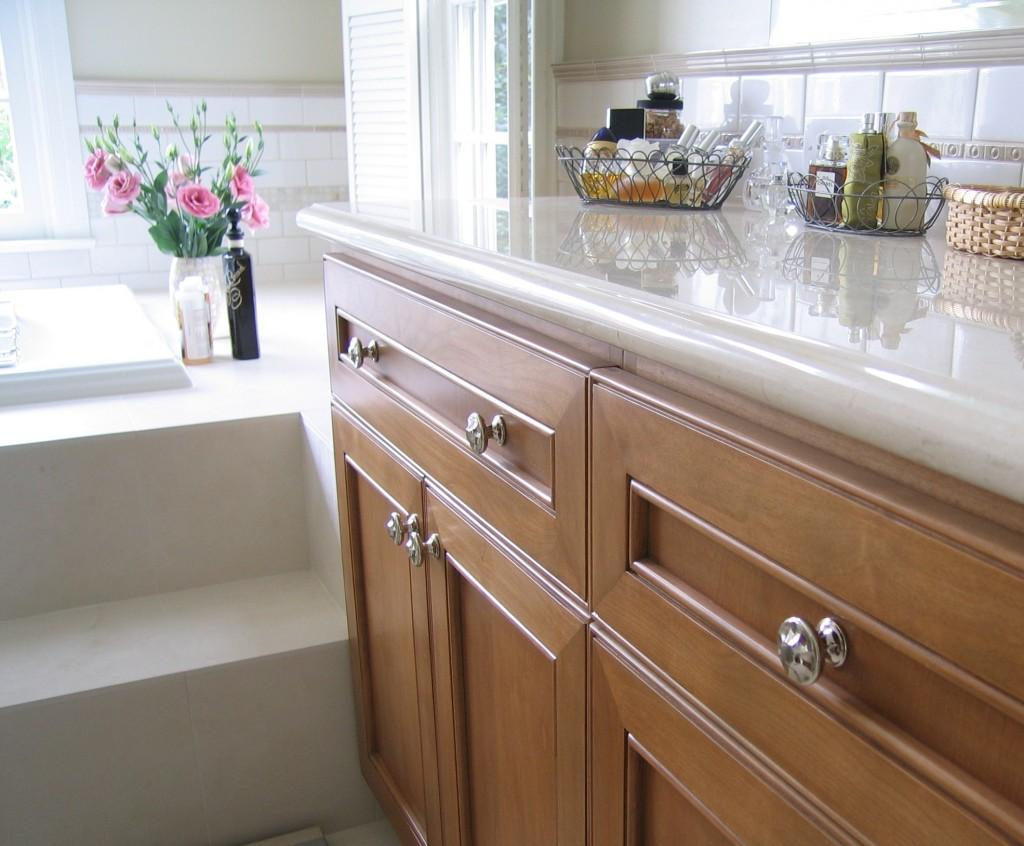cabinet_door: (615, 474, 1024, 750), (326, 304, 588, 482), (422, 520, 566, 830), (332, 444, 426, 787)
handle: (768, 608, 850, 688), (460, 403, 507, 464), (396, 530, 443, 570), (342, 338, 382, 382), (386, 505, 418, 542)
